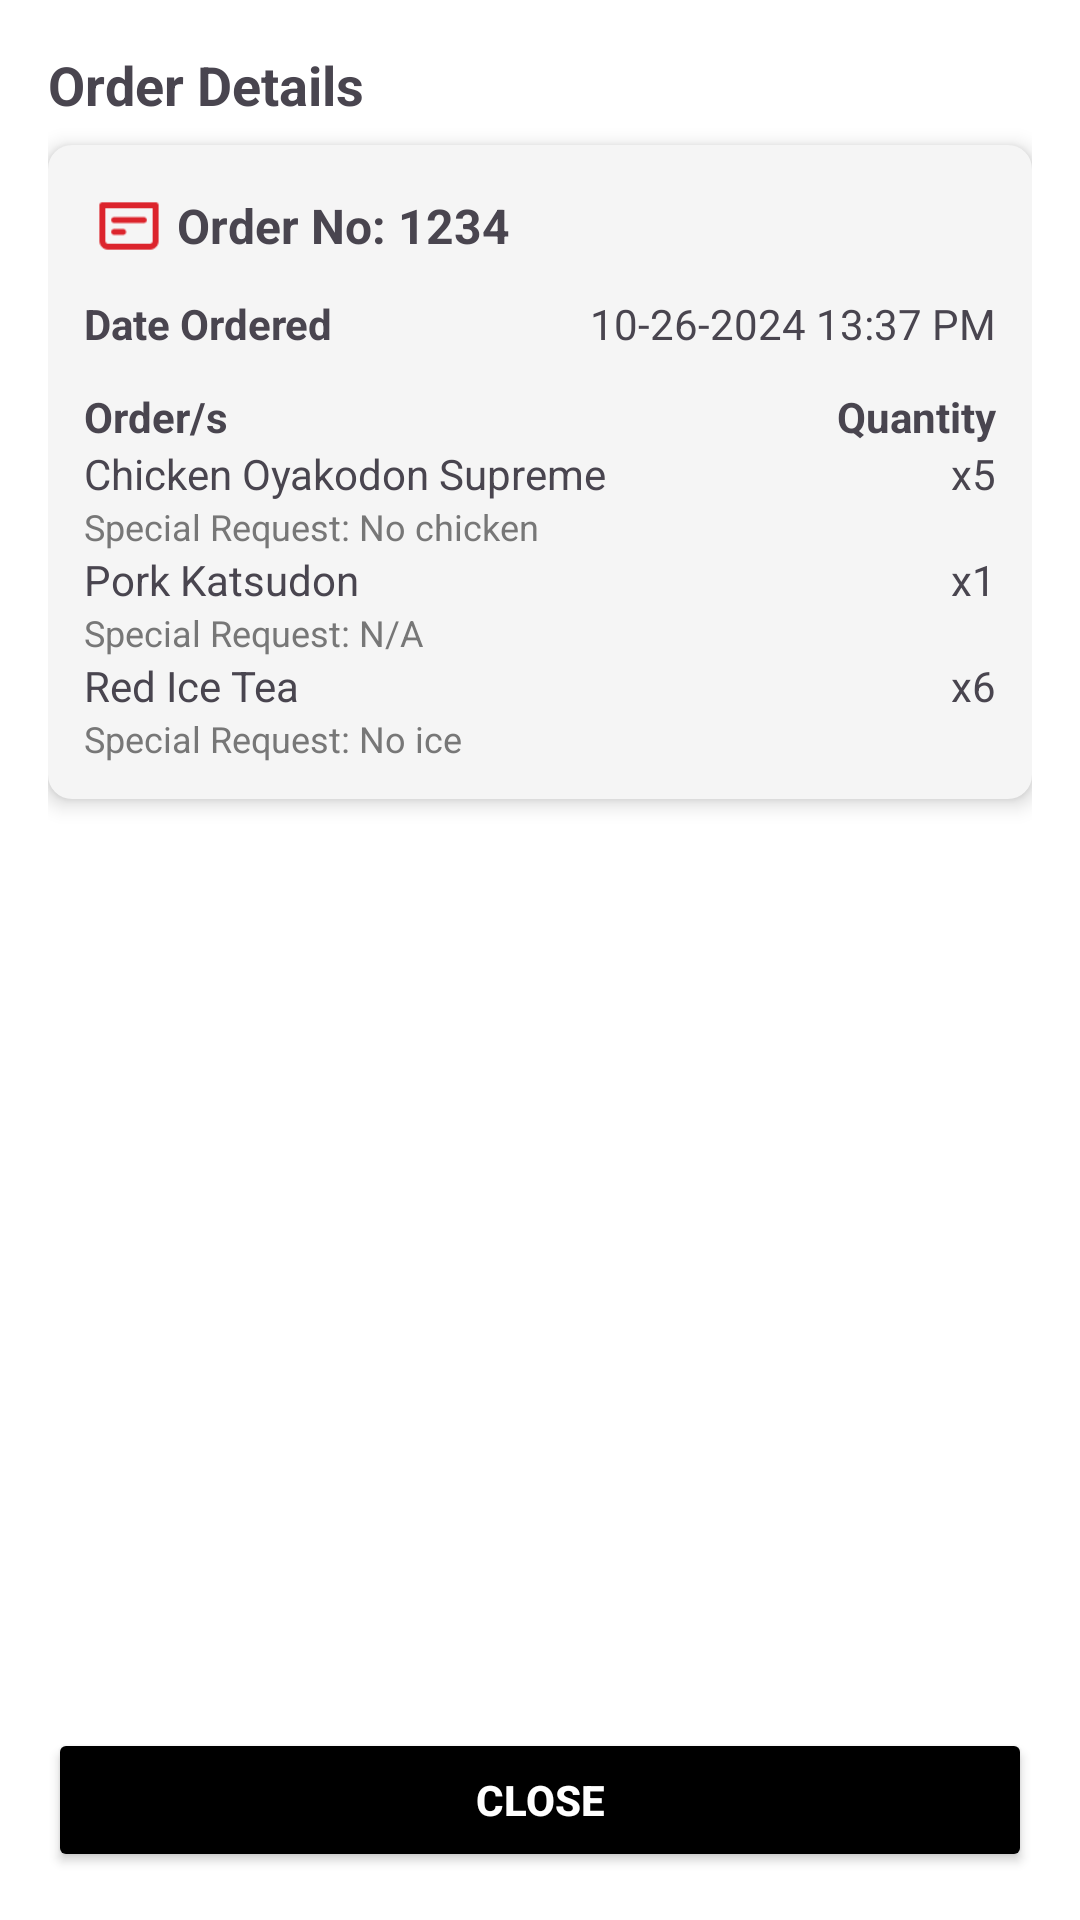

Icon click points for this 1080 x 1920 phone screenshot, format point (x, y):
cheque: point (129, 226)
